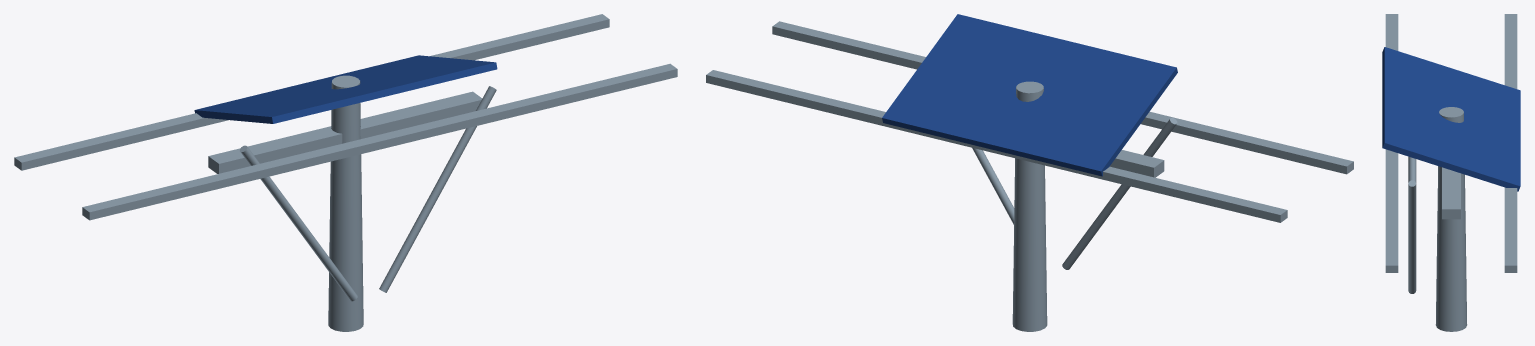
The model's file is gamechange-maxspan.glb.
3 views of the same model, side by side, from view 1: azimuth 30°, elevation 25°; view 2: azimuth 150°, elevation 25°; view 3: azimuth 270°, elevation 25° (orthographic). The views are drawn at different scales.
Bounding box in the file's own units: 3.8 × 1.62 × 0.8807.
